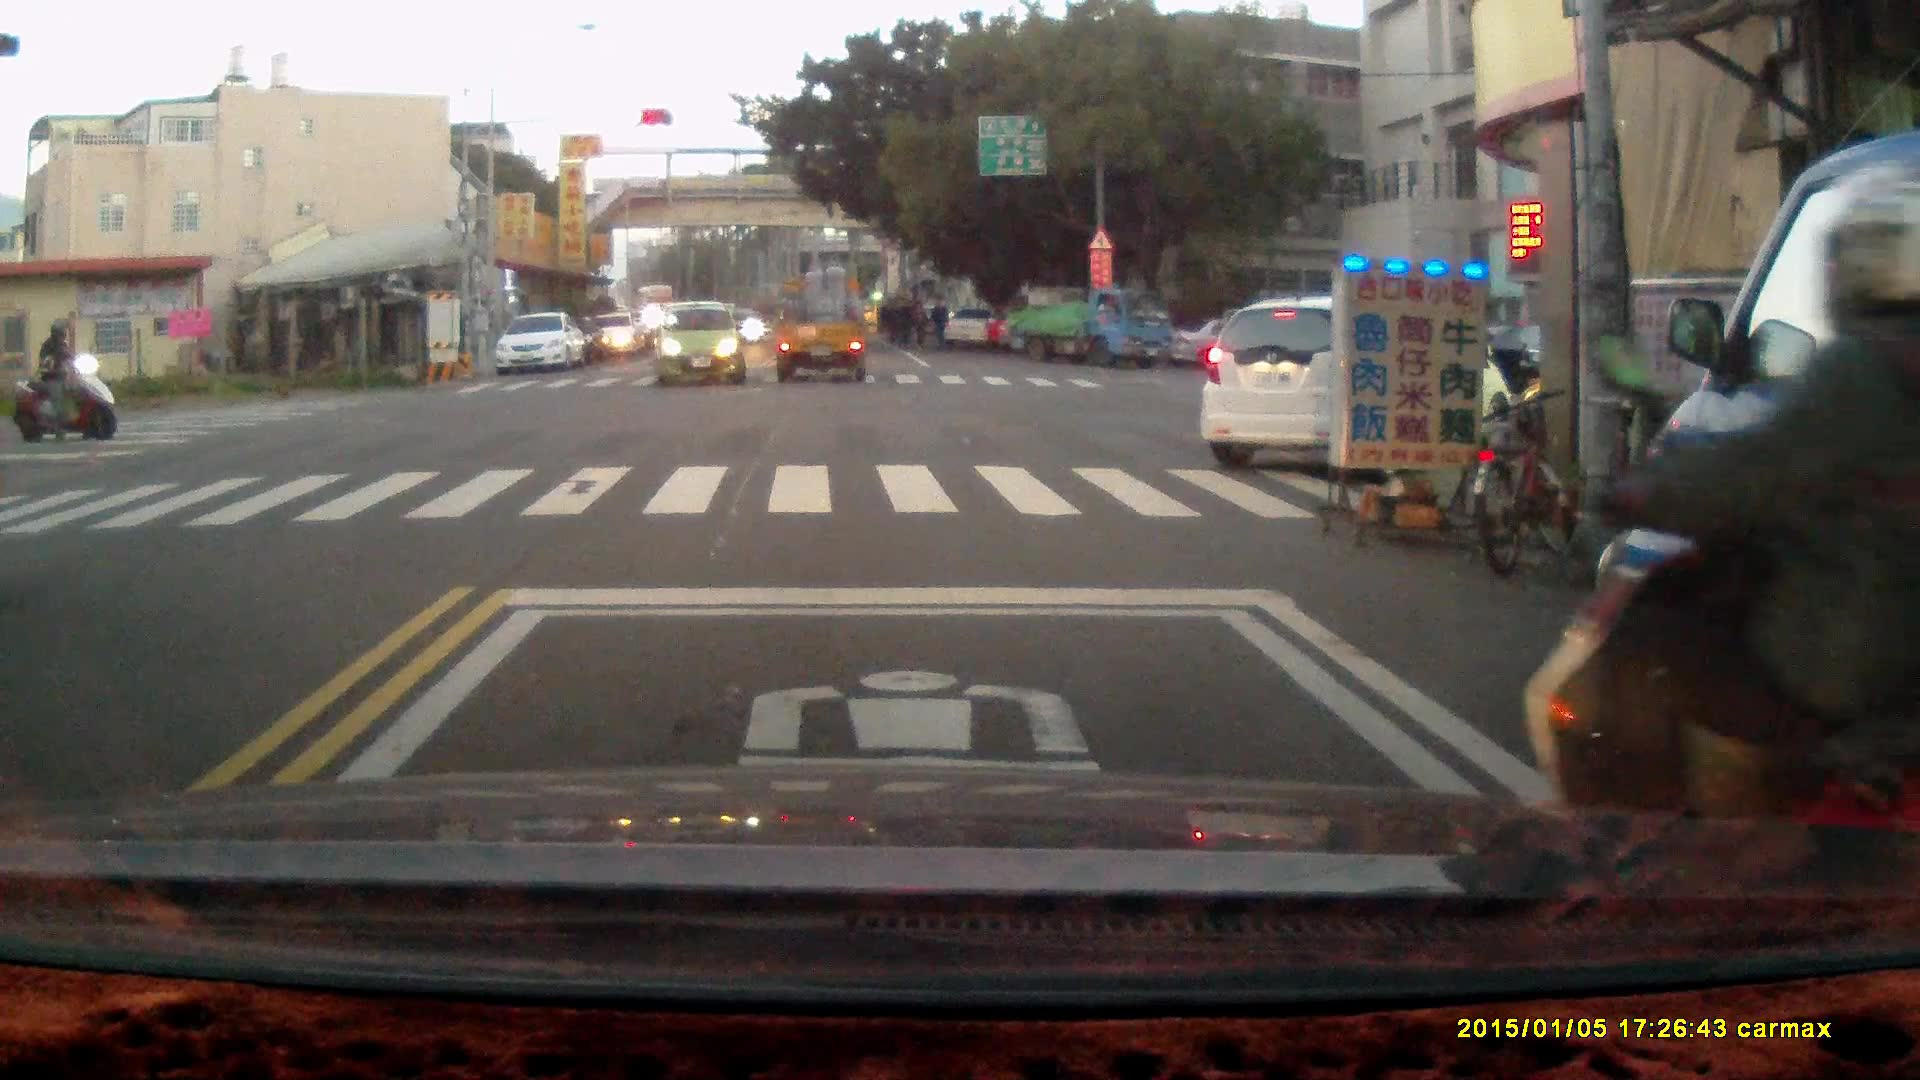rider: (1522, 161, 1920, 896), (11, 316, 119, 440)
vehicle: (1598, 132, 1920, 914), (1202, 293, 1514, 467), (1002, 284, 1174, 367), (775, 254, 873, 385), (659, 297, 754, 388), (499, 313, 587, 378), (592, 311, 642, 360)
